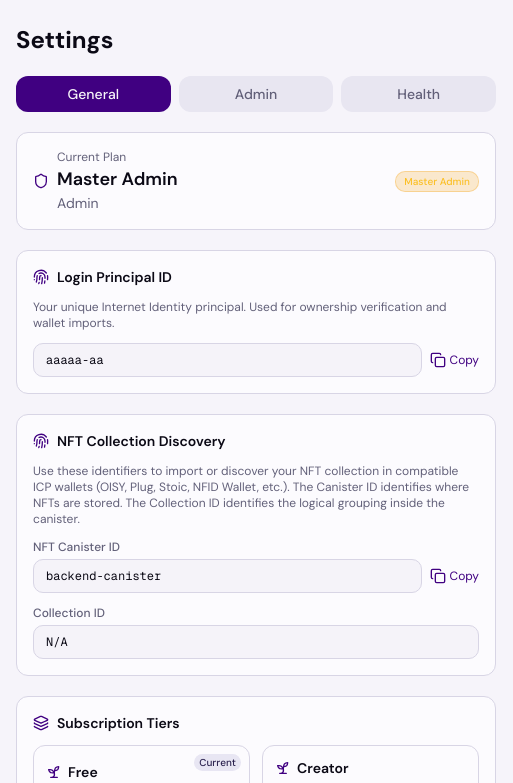
Test: Settings admin ownership reassignment (cover) › shows the reassignment control with single and batch actions to an admin
Click the button "Admin". click: (256, 94)
box: top-left (179, 76), bottom-right (333, 112)
(page scrolled)
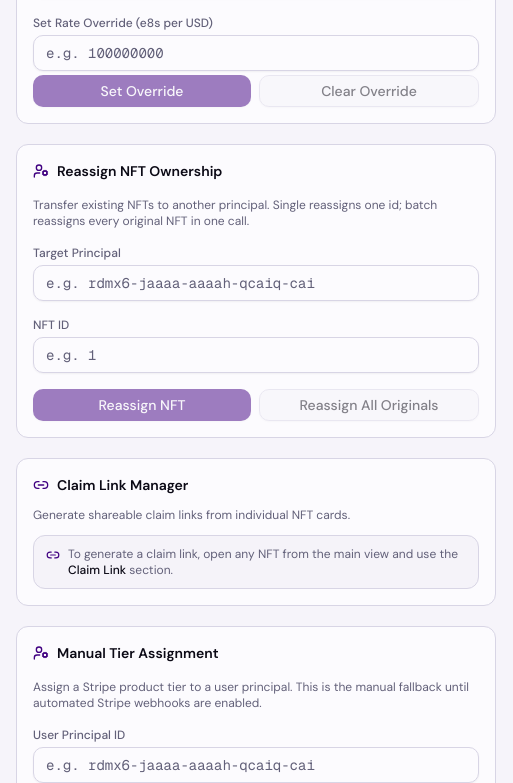
Expected: the element that starts with "Reassign NFT Ownership" is shown, top-left (16, 144), bottom-right (496, 438)
Expected: the button "Reassign NFT" is shown, top-left (33, 389), bottom-right (251, 421)
Expected: the button "Reassign All Originals" is shown, top-left (259, 389), bottom-right (479, 421)
